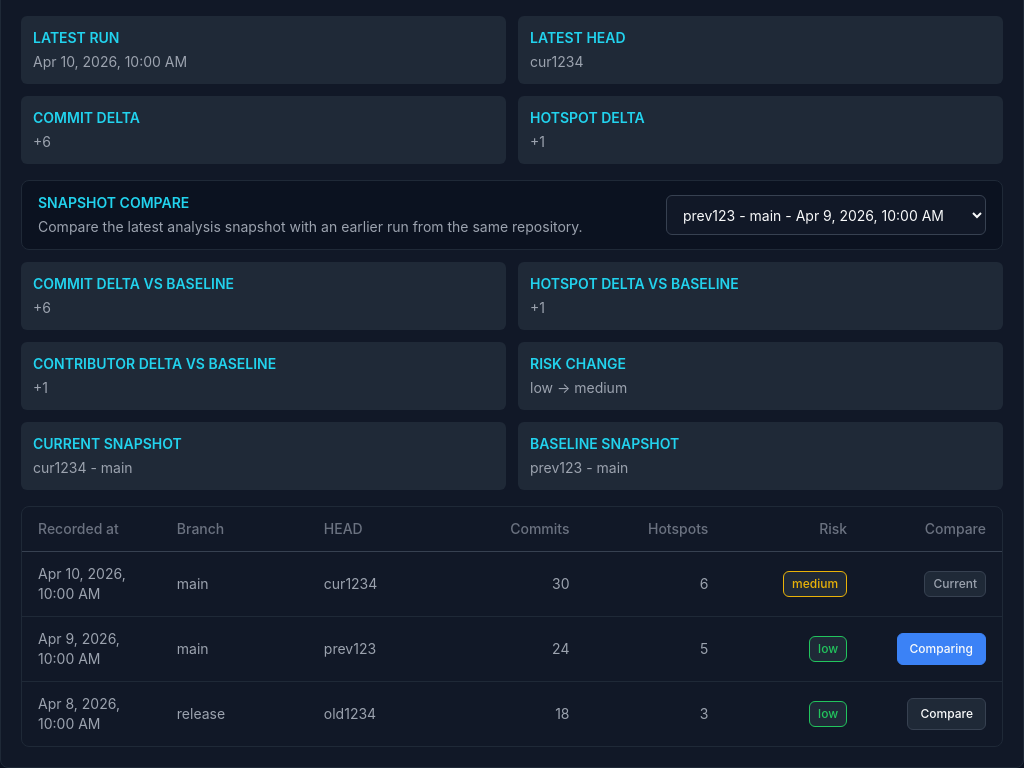
Test: OverviewPage branch controls › renders snapshot compare and lets the user change the baseline run
(page scrolled)
Expected: the text "Snapshot compare" is shown, [38, 194, 189, 211]
Expected: the text "Commit delta vs baseline" is shown, [33, 275, 234, 292]
Click the button "Compare". click: {"x": 947, "y": 714}
box: [908, 698, 986, 730]
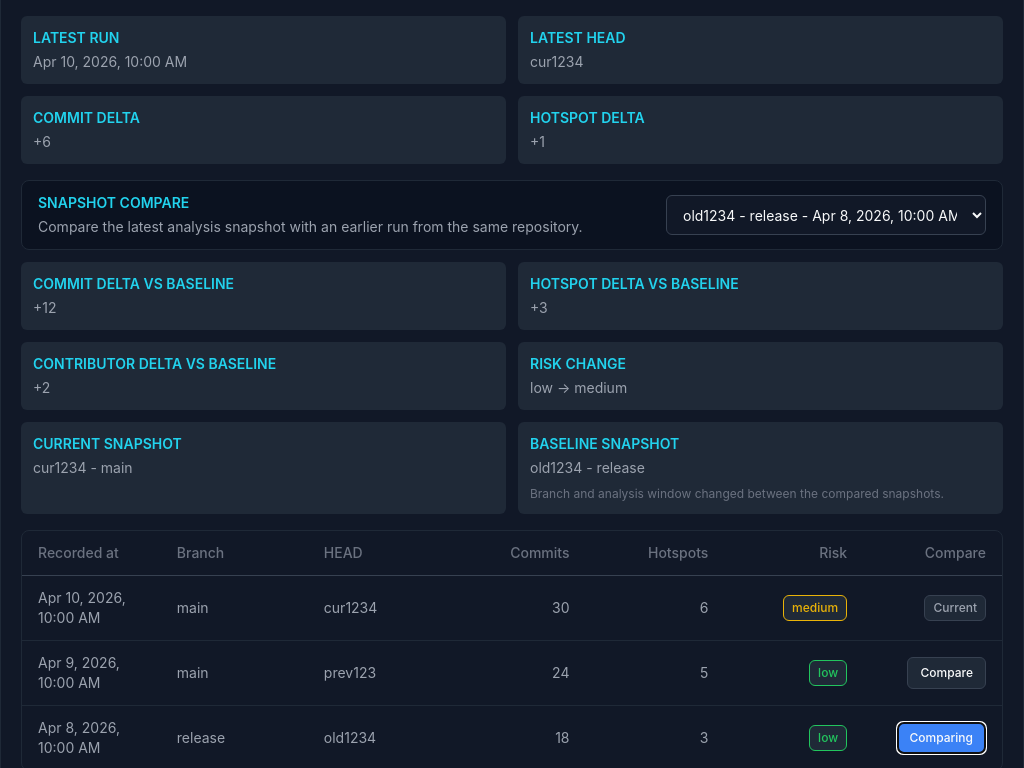
Result: the text "+12" is shown at [33, 299, 56, 316]
Result: the text "Branch and analysis window changed between the compared snapshots." is shown at [530, 486, 991, 502]
